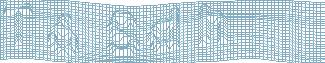6: (45, 12, 80, 57)
S: (104, 9, 141, 58)
T: (1, 5, 34, 50)
d: (148, 6, 180, 54)
h: (197, 3, 228, 48)
